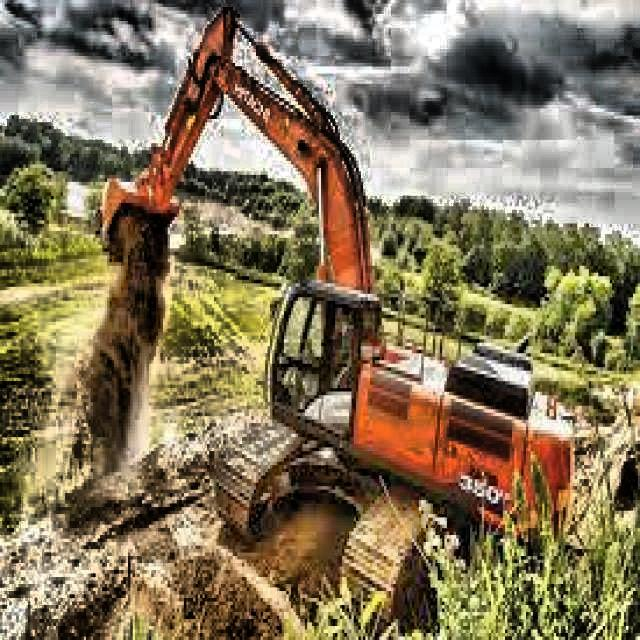bull_dozer/loader/grader: (97, 1, 575, 640)
person: (336, 324, 348, 356)
